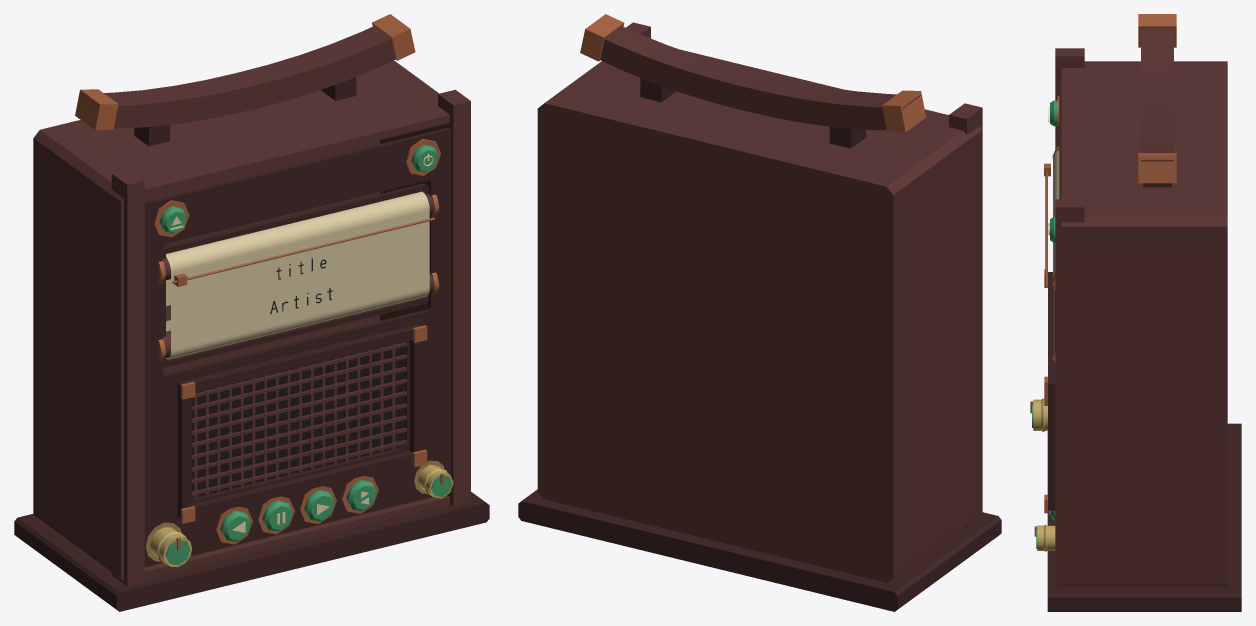
Rendered from EA-radio.glb.
The picture shows the model from 3 angles, left to right: view 1: azimuth 30°, elevation 25°; view 2: azimuth 150°, elevation 25°; view 3: azimuth 270°, elevation 25°; orthographic projection. The views are drawn at different scales.
Parts seen in each view (by area): view 1: Hollow wood cabinet, Front fascia — real openings, Reusable wax-cloth endless loop — front and return runs, Exposed timber corner post (×2), Speaker grille — lattice, Base and feet, Integrated speaker cloth, Crown beam, Speaker frame, Scroll Frame frame, Speaker opening surround, Crown copper cap left (+8 smaller); view 2: Hollow wood cabinet, Base and feet, Crown beam, Crown copper cap left, Exposed timber corner post, Crown copper cap right; view 3: Hollow wood cabinet, Base and feet, Exposed timber corner post (×2), Crown beam, Speaker frame, Crown copper cap right, Crown copper cap left, Reusable wax-cloth endless loop — front and return runs, Local vol — rotary control, Master vol — rotary control, Front fascia — real openings, Horizontal marking-carriage guide.
Part boxes in pixels (x1,y1,x2,y2): Hollow wood cabinet: (33,60,449,580); Front fascia — real openings: (144,127,451,567); Reusable wax-cloth endless loop — front and return runs: (166,191,429,359); Exposed timber corner post (×2): (111,89,470,586); Speaker grille — lattice: (191,342,406,498); Base and feet: (14,492,489,611); Integrated speaker cloth: (191,342,404,497); Crown beam: (80,26,395,128); Speaker frame: (177,324,423,518); Scroll Frame frame: (163,183,428,367); Speaker opening surround: (191,341,409,503); Crown copper cap left: (75,89,118,130); Hollow wood cabinet: (537,50,982,582); Base and feet: (518,489,1001,611); Crown beam: (600,26,920,130); Crown copper cap left: (882,90,926,132); Exposed timber corner post: (949,103,982,527); Crown copper cap right: (580,14,624,61); Hollow wood cabinet: (1061,61,1227,586); Base and feet: (1047,423,1241,611); Exposed timber corner post (×2): (1055,48,1084,587); Crown beam: (1141,28,1173,161); Speaker frame: (1048,272,1055,510); Crown copper cap right: (1138,153,1176,183); Crown copper cap left: (1138,14,1176,47); Reusable wax-cloth endless loop — front and return runs: (1053,150,1059,352); Local vol — rotary control: (1037,524,1055,551); Master vol — rotary control: (1033,398,1047,432); Front fascia — real openings: (1059,80,1061,199); Horizontal marking-carriage guide: (1045,171,1047,287).
Bounding box in the file's own units: 0.32 × 0.3819 × 0.1657.
